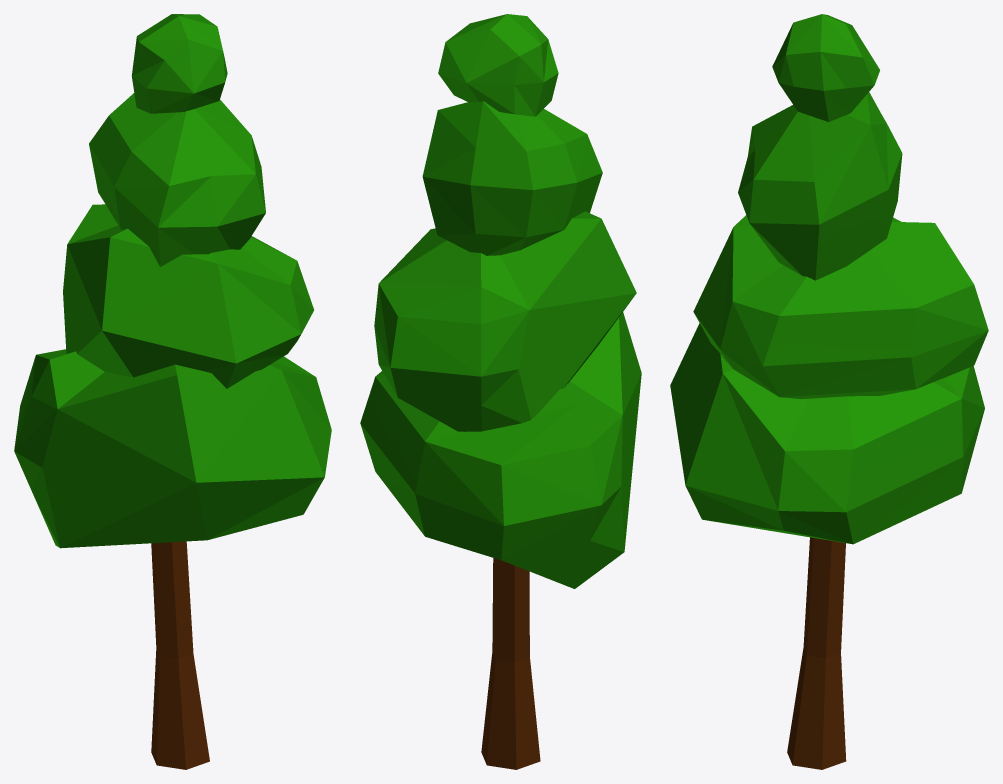
File: Tree_temp_climate_012.FBX
3 renders of one model, left to right at view 1: azimuth 30°, elevation 25°; view 2: azimuth 150°, elevation 25°; view 3: azimuth 270°, elevation 25°, orthographic.
Parts seen in each view (by area): view 1: Tree_temp_climate_012; view 2: Tree_temp_climate_012; view 3: Tree_temp_climate_012.
Part boxes in pixels (x1=…): Tree_temp_climate_012: x1=14, y1=14, x2=331, y2=769; Tree_temp_climate_012: x1=360, y1=14, x2=641, y2=769; Tree_temp_climate_012: x1=670, y1=14, x2=988, y2=769.
Bounding box in the file's own units: 200 × 538 × 209.
